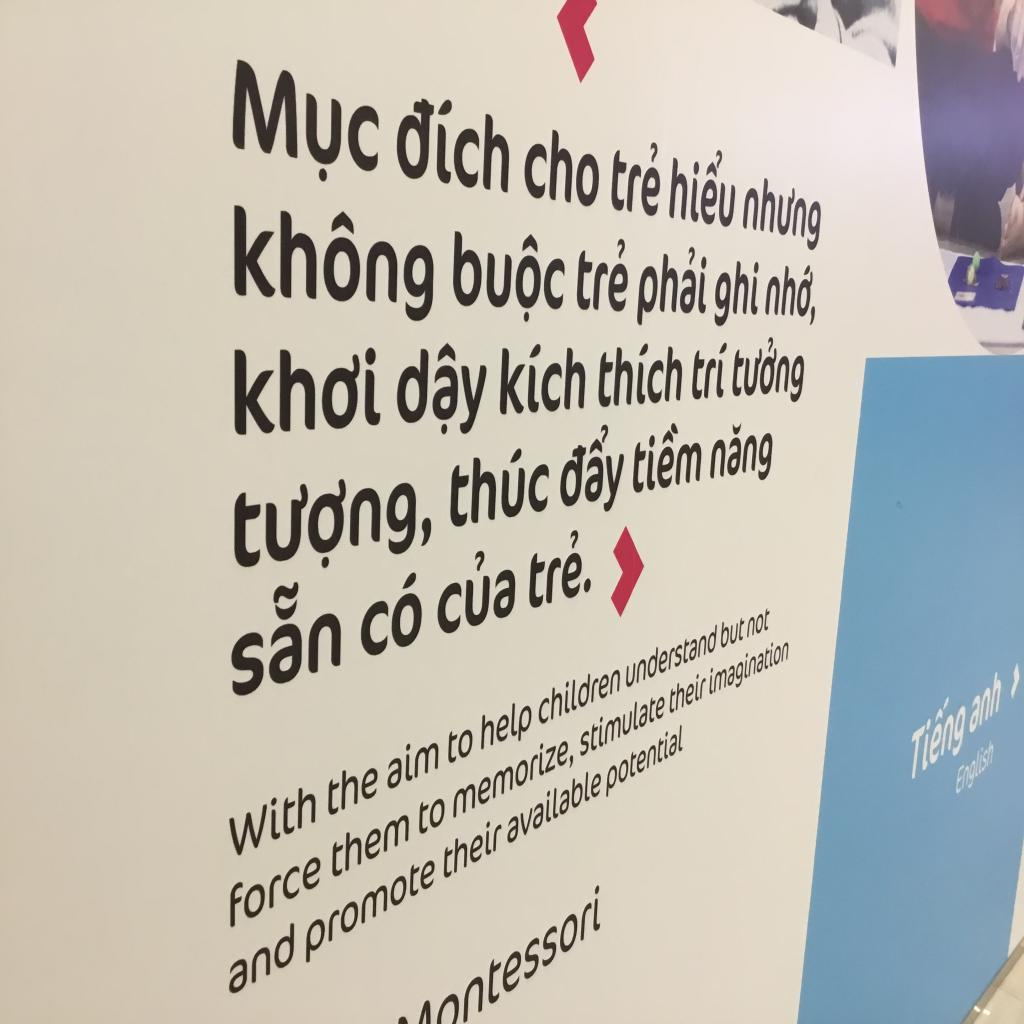text: (229, 194, 437, 328), (234, 465, 434, 588), (455, 874, 604, 1024), (228, 52, 383, 192), (304, 846, 436, 970), (228, 341, 384, 439), (228, 572, 343, 703), (391, 86, 515, 198), (449, 226, 568, 328), (452, 730, 578, 826), (392, 342, 496, 446), (447, 444, 553, 536), (224, 844, 324, 934), (557, 417, 635, 528), (508, 760, 601, 852), (520, 114, 603, 216), (434, 540, 516, 640), (222, 776, 318, 860), (494, 341, 591, 421), (624, 616, 719, 695), (328, 798, 412, 886), (904, 682, 970, 793), (740, 169, 824, 255), (604, 719, 686, 807), (635, 241, 710, 332), (576, 686, 666, 761), (595, 340, 687, 413), (356, 564, 423, 664), (666, 138, 738, 231), (538, 653, 622, 732), (225, 918, 300, 1002), (707, 629, 789, 705), (631, 416, 707, 497), (730, 336, 807, 413), (525, 527, 594, 612), (707, 416, 778, 497), (574, 232, 634, 318), (607, 130, 664, 220), (441, 809, 503, 886), (763, 256, 820, 330), (478, 690, 534, 765), (712, 254, 764, 331), (386, 726, 441, 796), (324, 753, 378, 819), (967, 663, 1005, 737), (690, 339, 728, 401), (668, 663, 706, 718), (415, 783, 446, 840), (446, 718, 474, 766), (719, 607, 747, 653), (746, 601, 770, 641)
